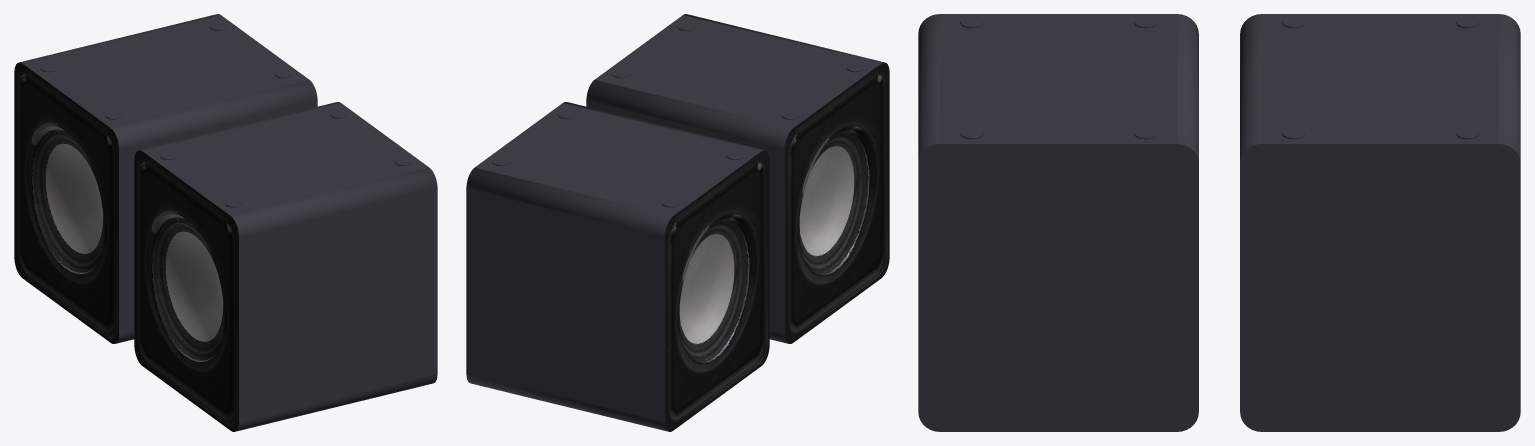
The model's file is Acoustic_2-0_black.dae.
The picture shows the model from 3 angles, left to right: view 1: azimuth 30°, elevation 25°; view 2: azimuth 150°, elevation 25°; view 3: azimuth 270°, elevation 25°; orthographic projection. The views are drawn at different scales.
Parts seen in each view (by area): view 1: Acoustic_2-0_black; view 2: Acoustic_2-0_black; view 3: Acoustic_2-0_black.
Boxes of the visible parts, x1,y1,x2,y2 form: Acoustic_2-0_black: (14, 14, 437, 431); Acoustic_2-0_black: (466, 14, 889, 431); Acoustic_2-0_black: (918, 14, 1520, 431).
Bounding box in the file's own units: 0.0595 × 0.0619 × 0.1165.
2 materials, 2 textured.
